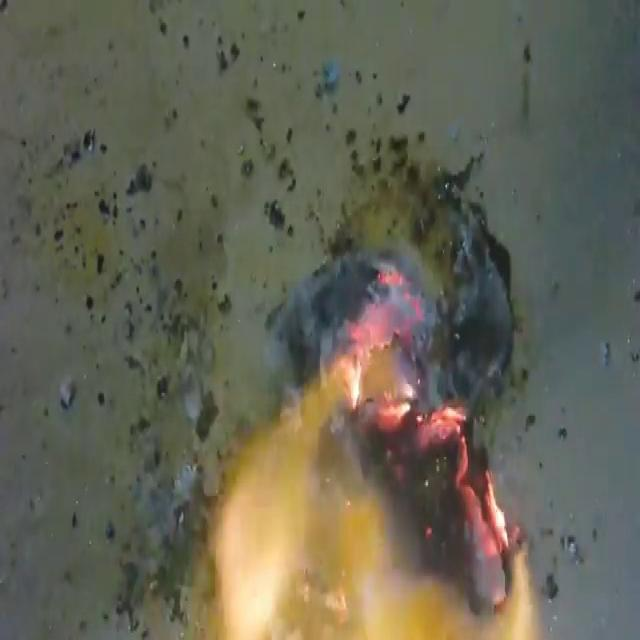Fire: (201, 256, 536, 638)
